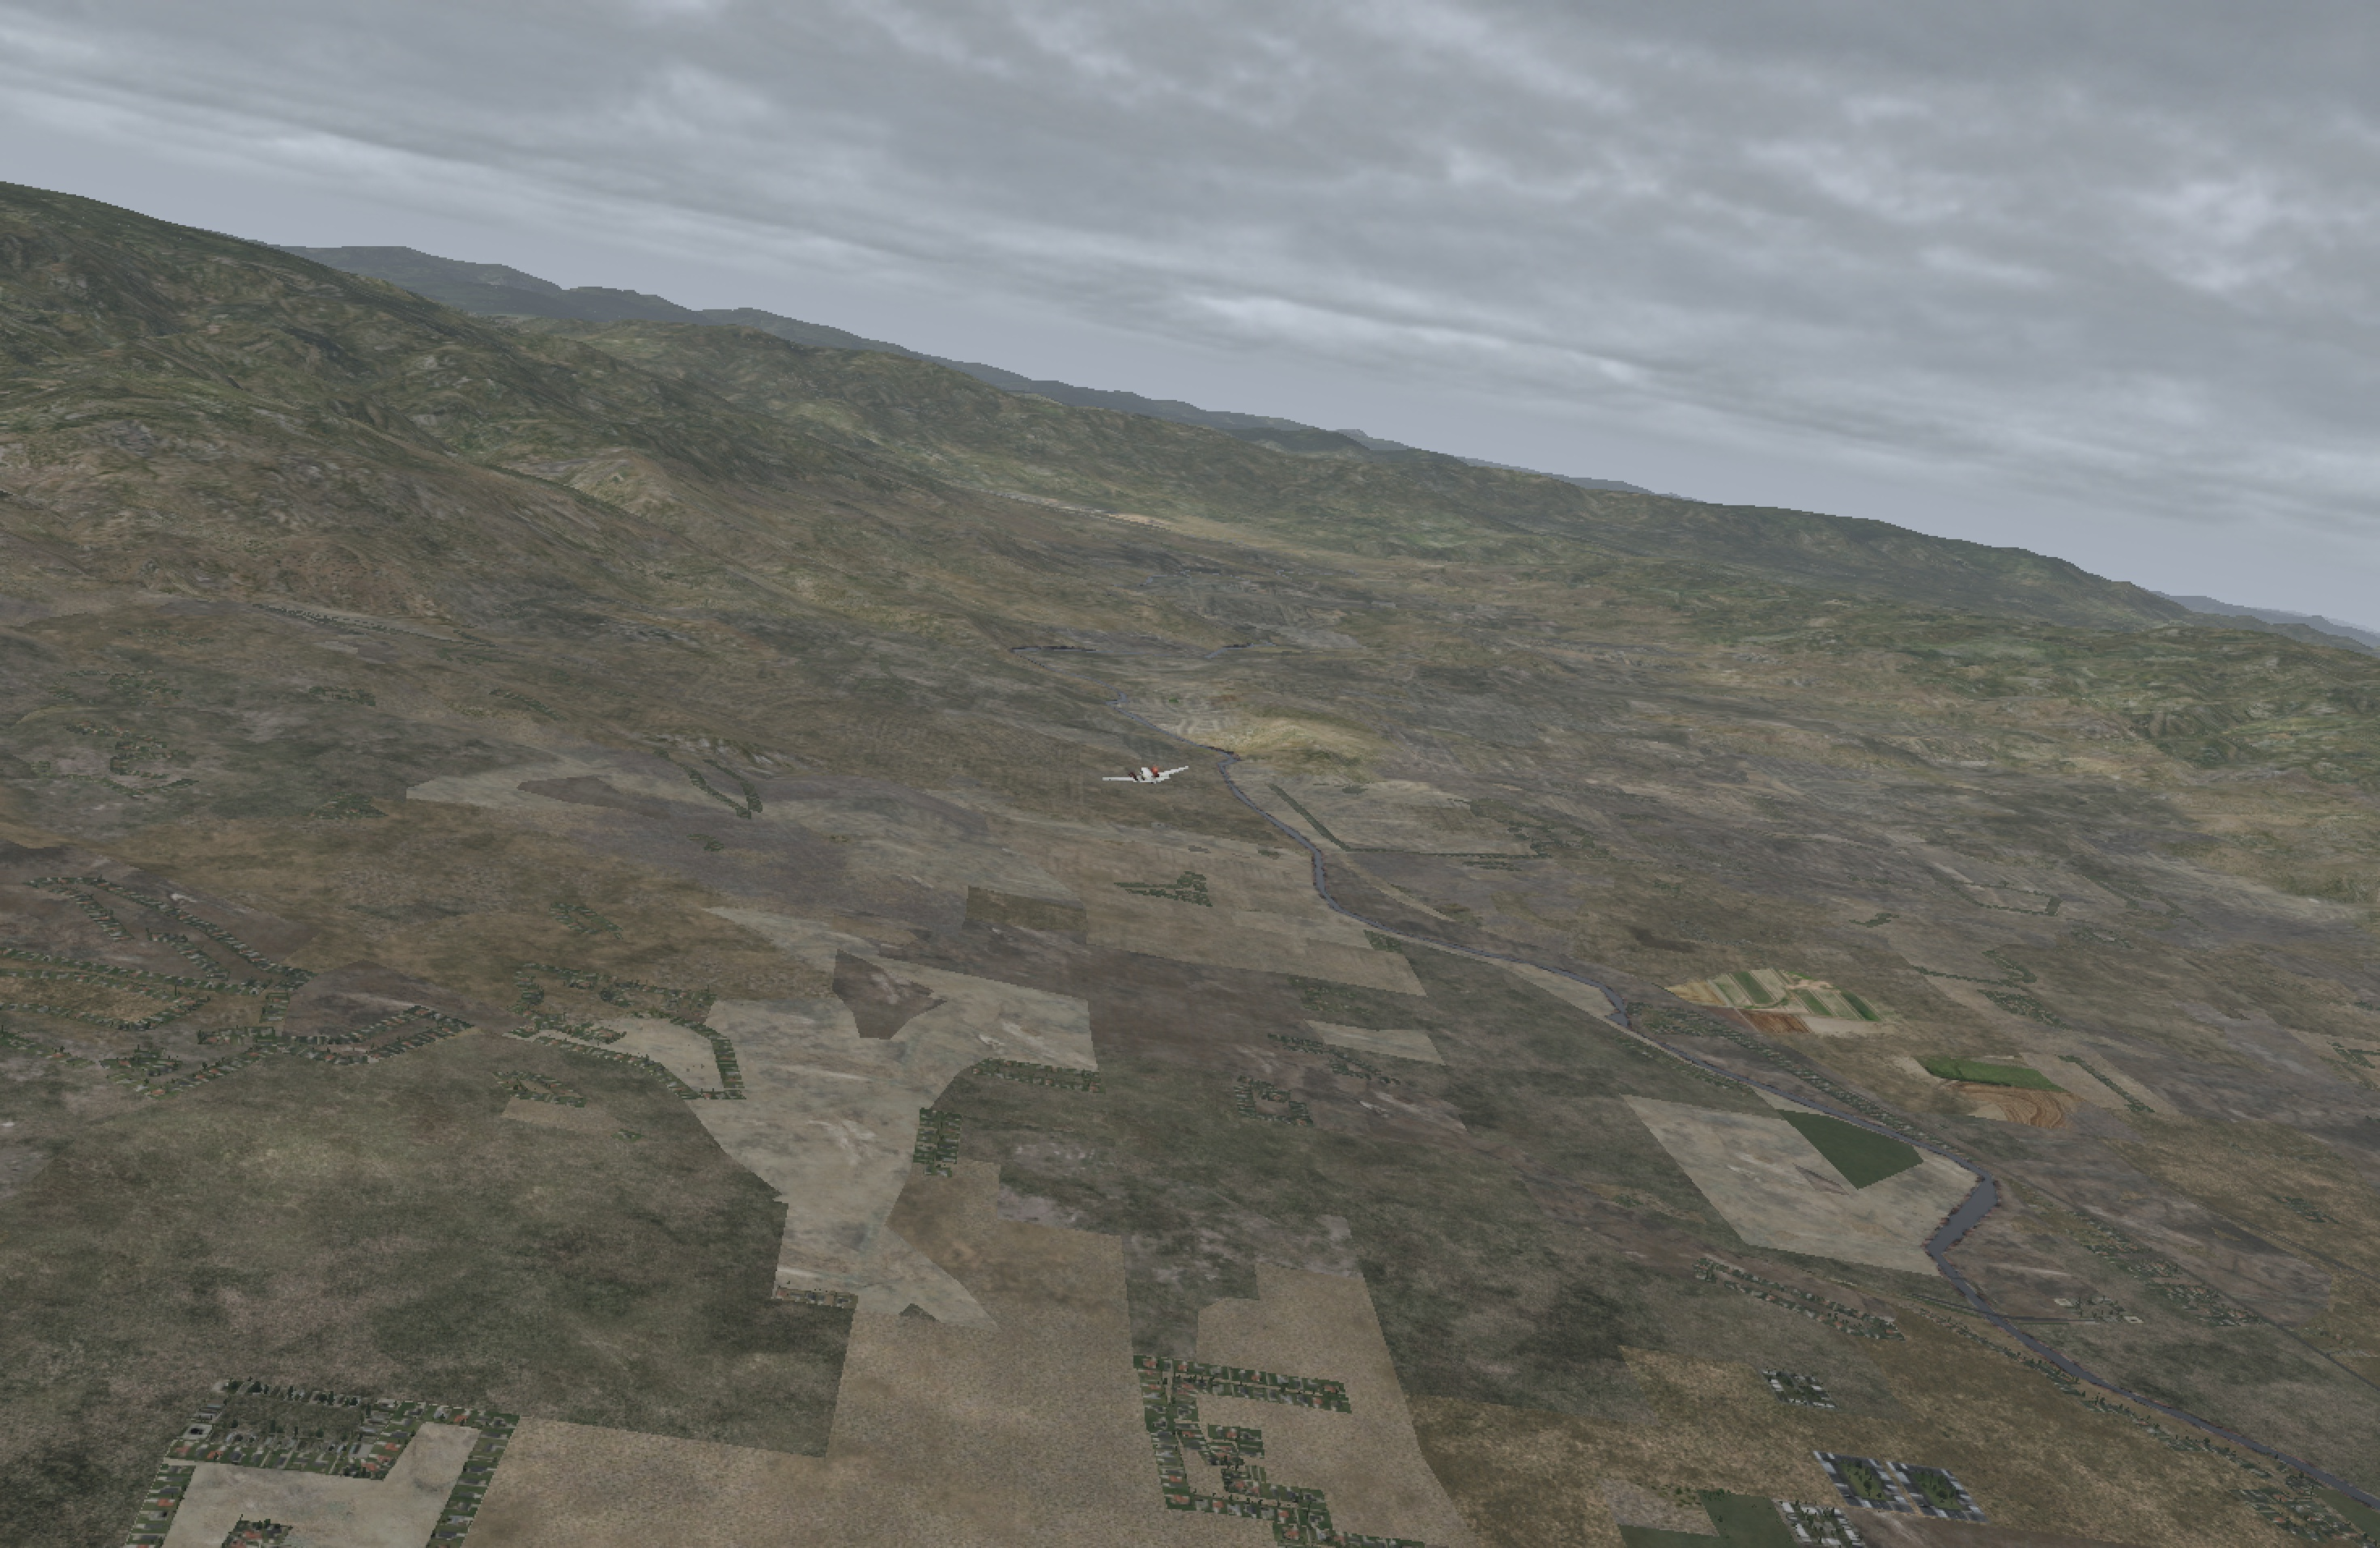aircraft: (1100, 760, 1192, 795)
